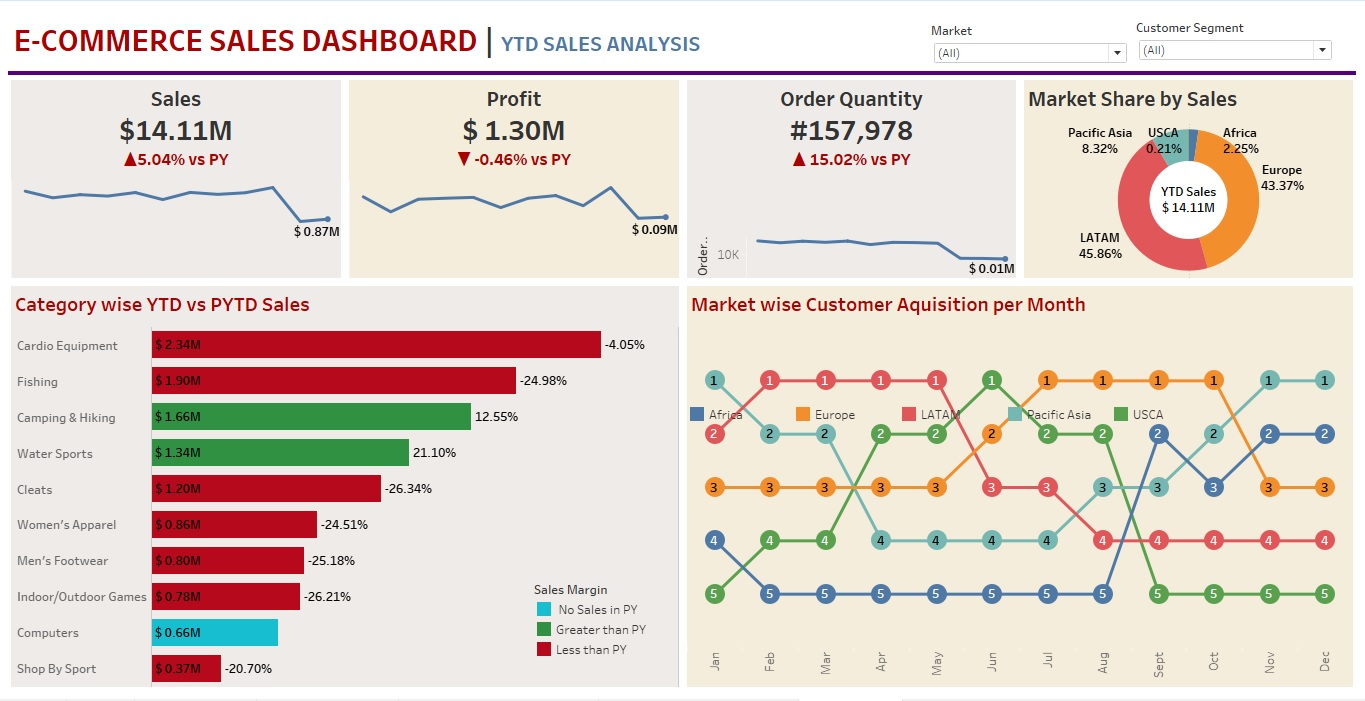

The dashboard page shown, as its layout file describes it:
{"tool":"tableau","page":{"name":"Dashboard 1","canvas":[1000,1000],"units":"permille","ordinal":0},"visuals":[{"type":"title","box":[6.9,14.5,986.1,110.5]},{"type":"filter","title":"Sales KPI","param":"[federated.13ee76k1bkkifr1ccvqk518m4y3i].[none:Customer Segment:nk]","box":[832,25.4,145.5,79.7]},{"type":"filter","title":"Sales KPI","param":"[federated.13ee76k1bkkifr1ccvqk518m4y3i].[none:Market:nk]","box":[682.2,30.8,145.5,74.3]},{"type":"blank","box":[6.9,125,986.1,10.9]},{"type":"worksheet","title":"Sales KPI","mark":"Automatic","rows":["Sales"],"cols":["Order Date"],"box":[6.9,135.9,246.8,373.2]},{"type":"worksheet","title":"Profit KPI","mark":"Automatic","rows":["Profit Per Order"],"cols":["Order Date"],"box":[253.7,135.9,246.8,373.2]},{"type":"worksheet","title":"Order Quantity KPI","mark":"Automatic","rows":["Order Quantity"],"cols":["Order Date"],"box":[500.4,135.9,246.8,373.2]},{"type":"worksheet","title":"Market Share by Sales","mark":"Pie","cols":["Calculation_1193453930780631053","Calculation_1193453930780852241"],"box":[747.2,135.9,245.9,373.2]},{"type":"worksheet","title":"Category wise YTD vs PYTD Sales","mark":"Bar","rows":["Category Name"],"cols":["Calculation_1193453930782707730","Calculation_1193453930782707730"],"box":[6.9,509.1,493.5,476.5]},{"type":"worksheet","title":"Market wise Customer Aquisition per Month","mark":"Automatic","cols":["Order Date"],"box":[500.4,509.1,492.7,476.5]},{"type":"legend","title":"Market wise Customer Aquisition per Month","param":"[federated.13ee76k1bkkifr1ccvqk518m4y3i].[none:Market:nk]","box":[503.9,577.9,484,39.9]},{"type":"legend","title":"Category wise YTD vs PYTD Sales","param":"[federated.13ee76k1bkkifr1ccvqk518m4y3i].[usr:Calculation_1193453930791821333:nk","box":[391.3,831.5,101.3,141.3]}]}

Visuals, with their boxes on the dashboard's canvas, which has no fixed pixel size, in thousandths of its width and height (x1, y1, x2, y2). These are canvas units, not pixel positions in the 1365x701 screenshot, which may show the page scaled, cropped or inside an application window:
title: bbox=[7, 14, 993, 125]
"Sales KPI" filter: bbox=[832, 25, 978, 105]
"Sales KPI" filter: bbox=[682, 31, 828, 105]
blank: bbox=[7, 125, 993, 136]
"Sales KPI" worksheet: bbox=[7, 136, 254, 509]
"Profit KPI" worksheet: bbox=[254, 136, 500, 509]
"Order Quantity KPI" worksheet: bbox=[500, 136, 747, 509]
"Market Share by Sales" worksheet (Pie marks): bbox=[747, 136, 993, 509]
"Category wise YTD vs PYTD Sales" worksheet (Bar marks): bbox=[7, 509, 500, 986]
"Market wise Customer Aquisition per Month" worksheet: bbox=[500, 509, 993, 986]
"Market wise Customer Aquisition per Month" legend: bbox=[504, 578, 988, 618]
"Category wise YTD vs PYTD Sales" legend: bbox=[391, 832, 493, 973]
